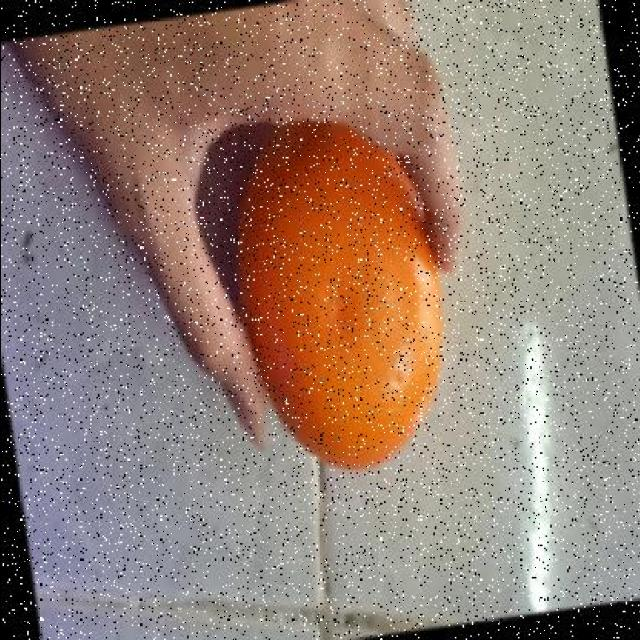Orange: (234, 119, 448, 472)
